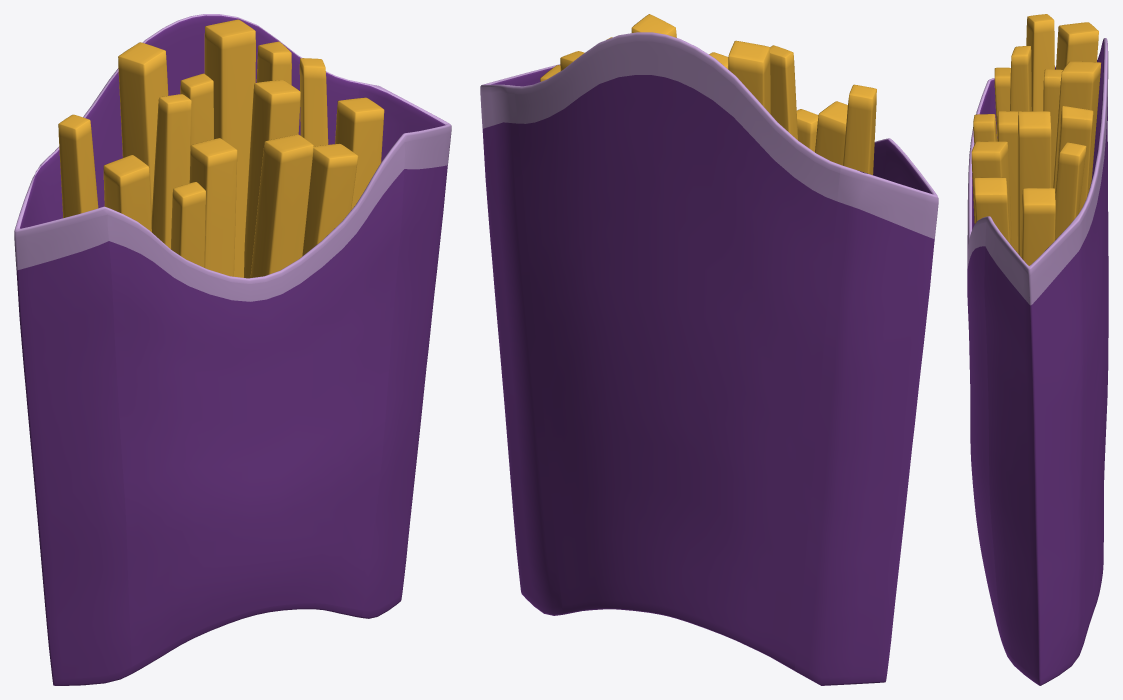
The model's file is frites.glb.
The picture shows the model from 3 angles, left to right: view 1: azimuth 30°, elevation 25°; view 2: azimuth 150°, elevation 25°; view 3: azimuth 270°, elevation 25°; orthographic projection. The views are drawn at different scales.
Parts seen in each view (by area): view 1: Paper_Holder; view 2: Paper_Holder; view 3: Paper_Holder.
Part boxes in pixels (x1,y1,x2,y2): Paper_Holder: (14, 14, 451, 685); Paper_Holder: (480, 14, 938, 685); Paper_Holder: (967, 14, 1108, 685).
Bounding box in the file's own units: 2.18 × 2.87 × 0.6578.
